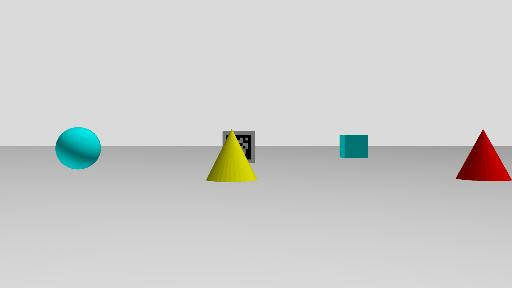red_cone: (454, 129, 511, 182)
yellow_cone: (205, 128, 258, 183)
